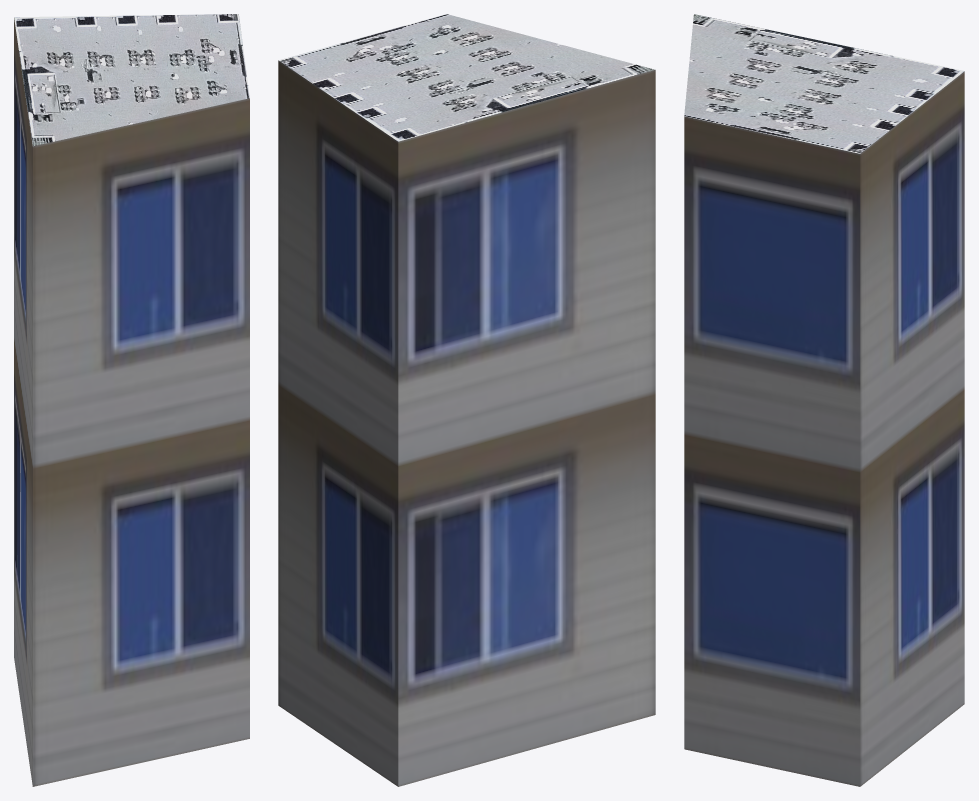
The model's file is ResTex__701.fbx.
3 views of the same model, side by side, from view 1: azimuth 30°, elevation 25°; view 2: azimuth 150°, elevation 25°; view 3: azimuth 270°, elevation 25° (orthographic).
Visible parts, largest first — view 1: CityEngineMaterial_23_m, CityEngineMaterial_4_m; view 2: CityEngineMaterial_23_m, CityEngineMaterial_4_m; view 3: CityEngineMaterial_23_m, CityEngineMaterial_4_m.
Part boxes in pixels (x1=…): CityEngineMaterial_23_m: x1=14, y1=18, x2=249, y2=786; CityEngineMaterial_4_m: x1=14, y1=14, x2=249, y2=146; CityEngineMaterial_23_m: x1=278, y1=60, x2=655, y2=786; CityEngineMaterial_4_m: x1=279, y1=14, x2=654, y2=141; CityEngineMaterial_23_m: x1=684, y1=71, x2=964, y2=786; CityEngineMaterial_4_m: x1=684, y1=14, x2=964, y2=153.
Bounding box in the file's own units: 2.84 × 6 × 2.41.
Materials: 2 (2 with a texture image).
